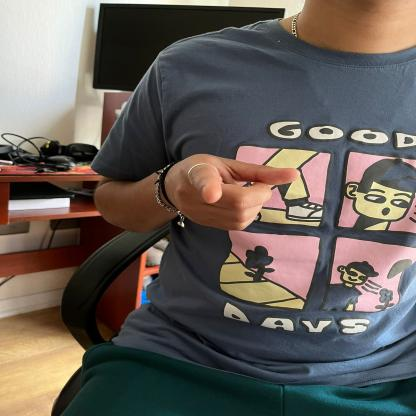X: (166, 144, 306, 234)
